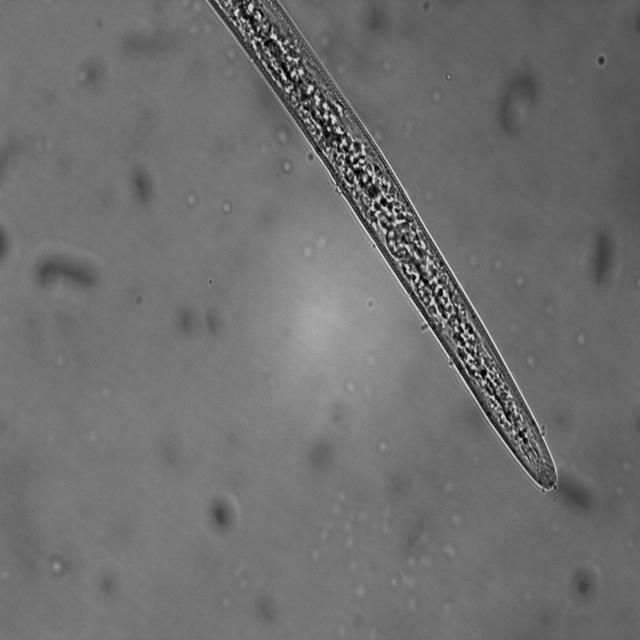Meloidogyne: (199, 0, 566, 498)
